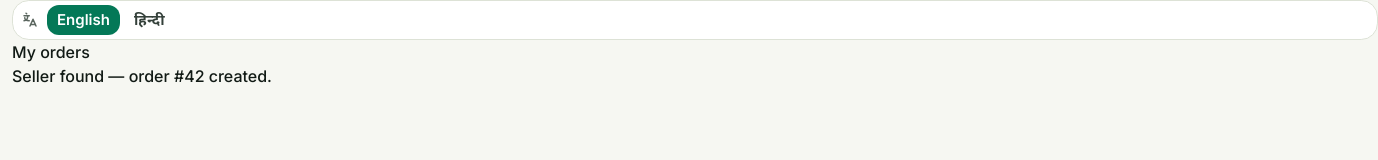
Test: i18n › switches to Hindi, remembers the choice, and sets <html lang>
Click the button "हिन्दी".
click(149, 20)  # box [124,5,175,35]
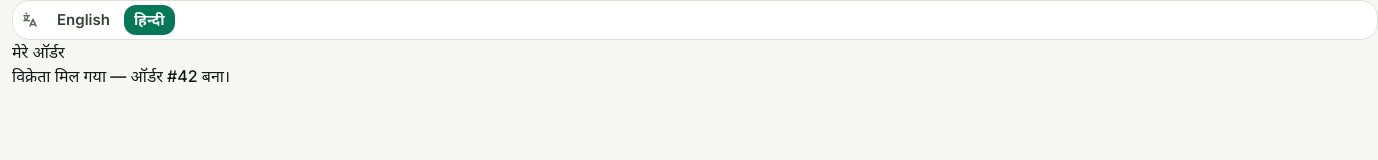
expect the text with test id "title" reads "मेरे ऑर्डर": met, box [12,42,64,62]
expect the text with test id "vars" reads "विक्रेता मिल गया — ऑर्डर #42 बना।": met, box [12,66,230,86]
